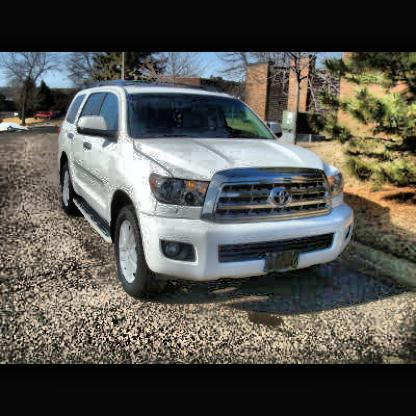Toyota Sequoia SUV 2012: (58, 85, 355, 300)
